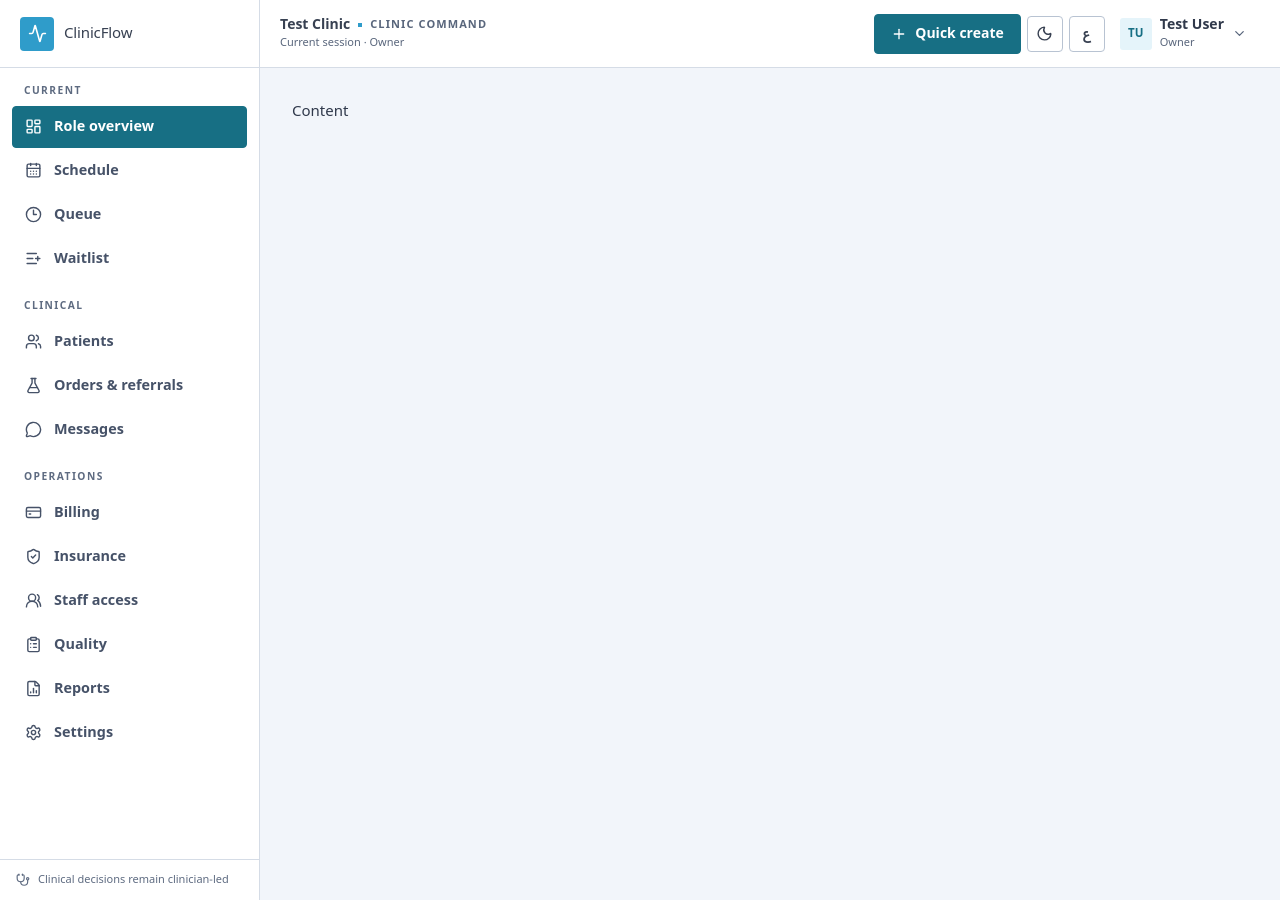
it: AppShell permissions › renders Quick create actions from the clinic's configured list
Step 1. Click the button "Quick create" → (948, 34), box [874,14,1021,54]
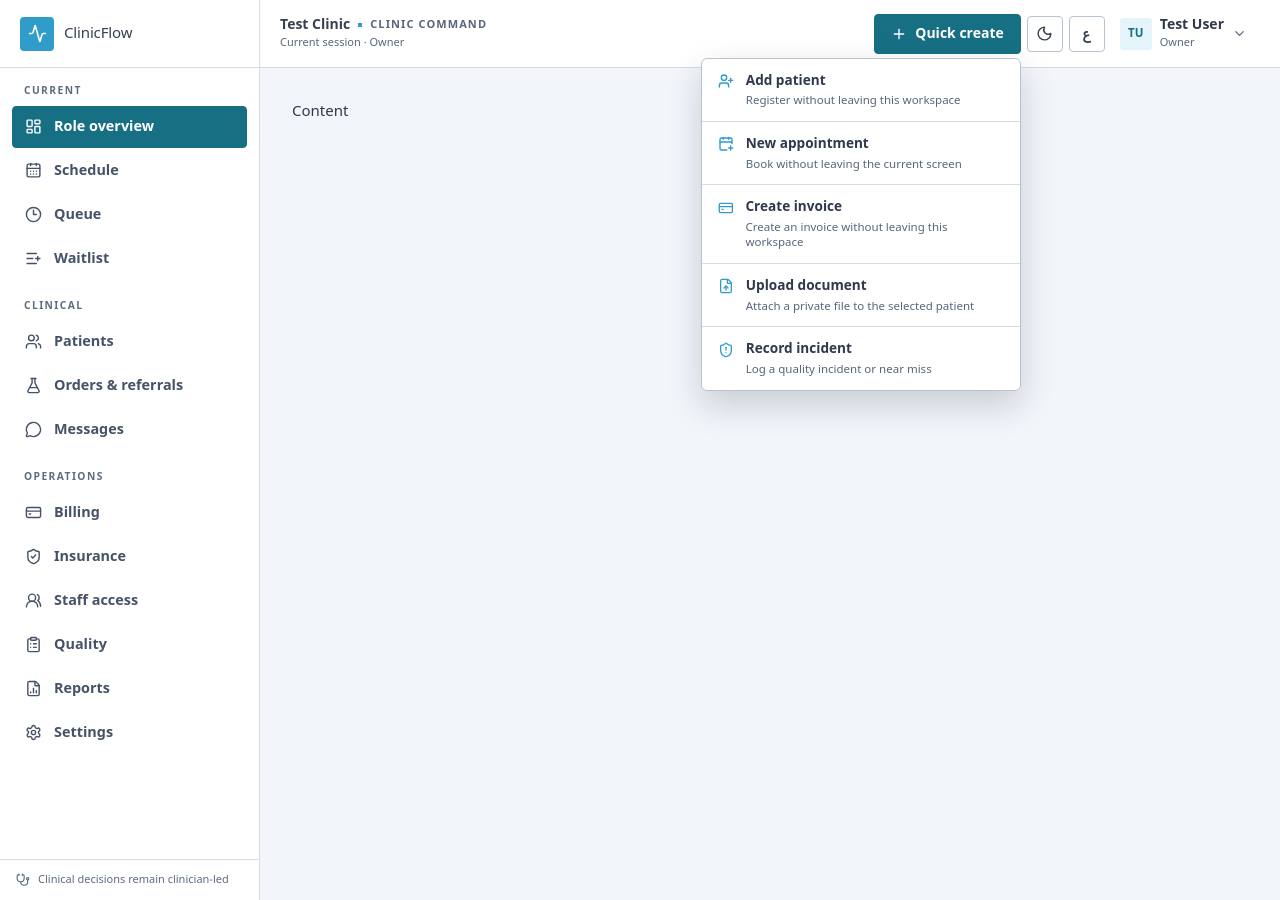
Now the menu item "Add patient Register without leaving this workspace" is shown, box [702,58,1020,122]
Now the menu item "Upload document" is shown, box [702,264,1020,327]
Now the menu item "Record incident Log a quality incident or near miss" is shown, box [702,327,1020,390]
